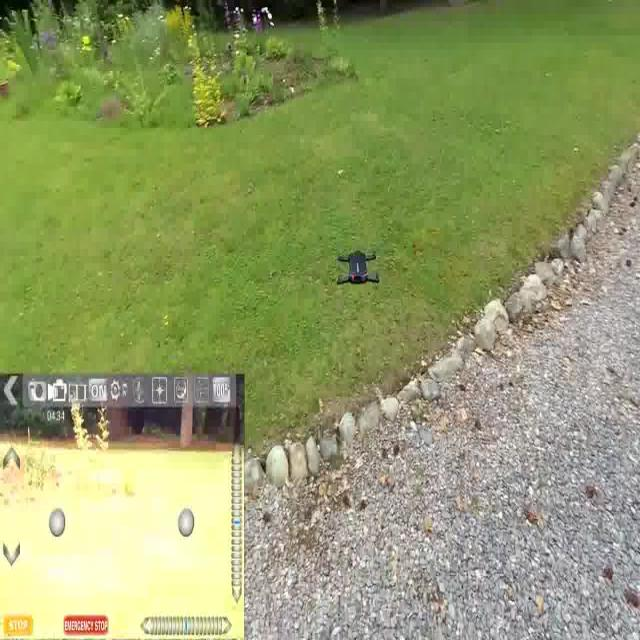Drone_FW: (327, 242, 381, 300)
